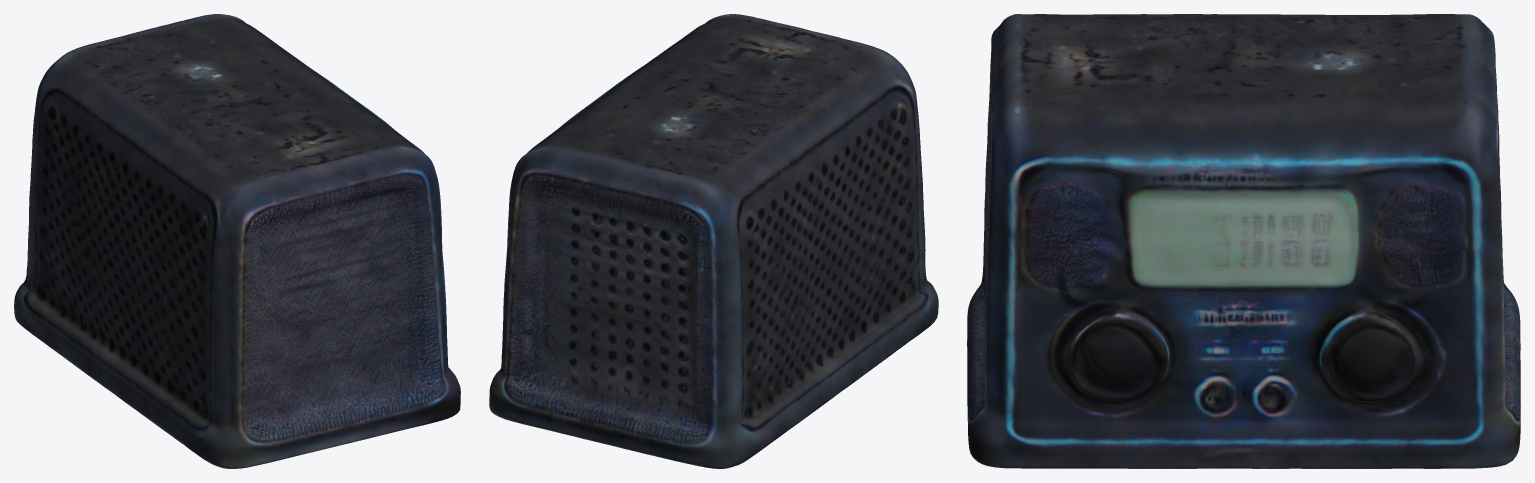
The model's file is 2fe8f17163b7_hi_tech_styled_radi.fbx.
3 views of the same model, side by side, from view 1: azimuth 30°, elevation 25°; view 2: azimuth 150°, elevation 25°; view 3: azimuth 270°, elevation 25° (orthographic). The views are drawn at different scales.
Parts seen in each view (by area): view 1: high_poly; view 2: high_poly; view 3: high_poly.
Boxes of the visible parts, <box> form: high_poly: <box>14,14,460,468</box>; high_poly: <box>489,14,938,468</box>; high_poly: <box>967,14,1520,468</box>.
Bounding box in the file's own units: 67.79 × 67.67 × 100.
